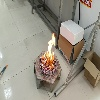fire: (42, 33, 55, 71)
